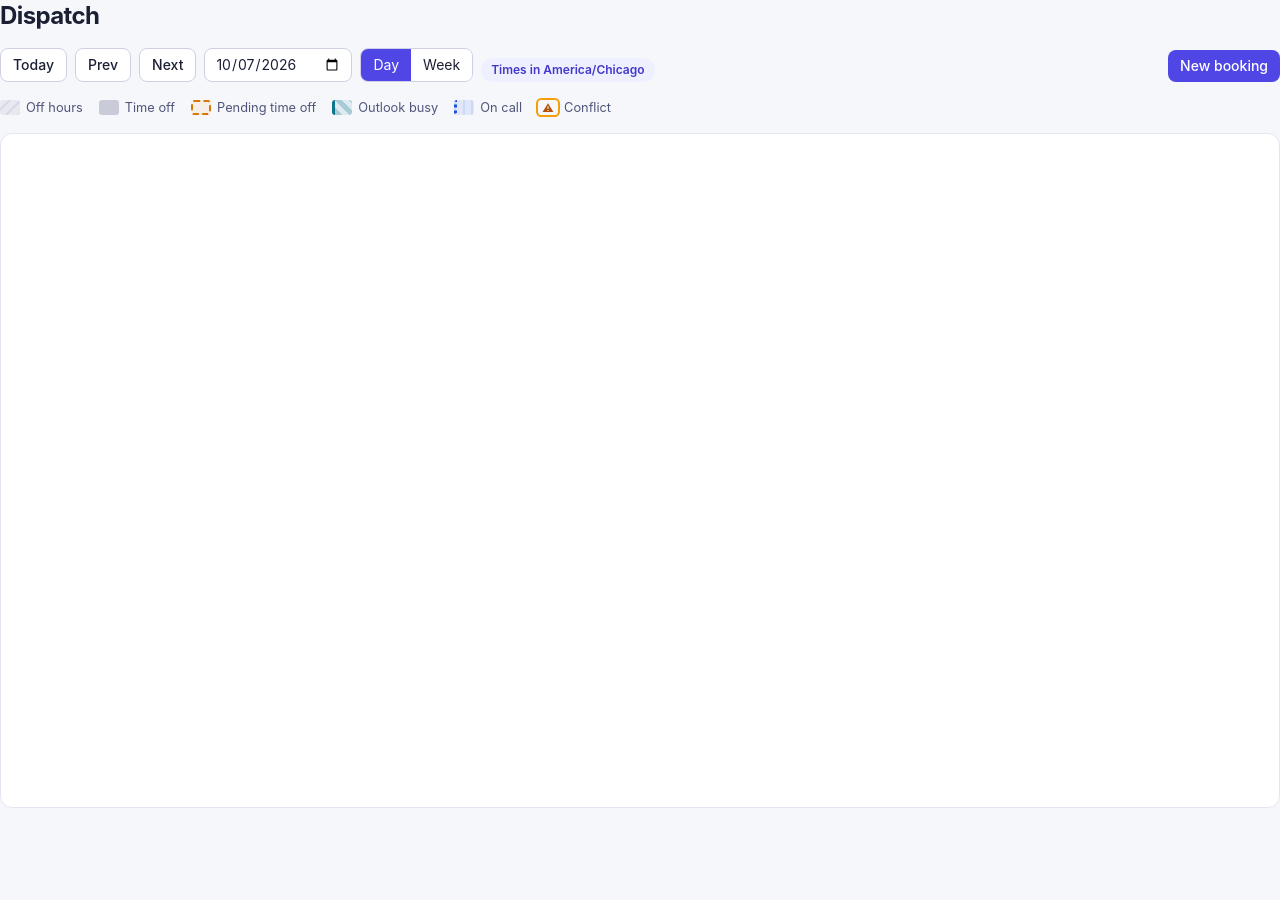
Test: dispatch board › books a ticket from the New booking dialog with UTC times
Click the button "New booking": [1224, 66] box [1168,50,1279,82]
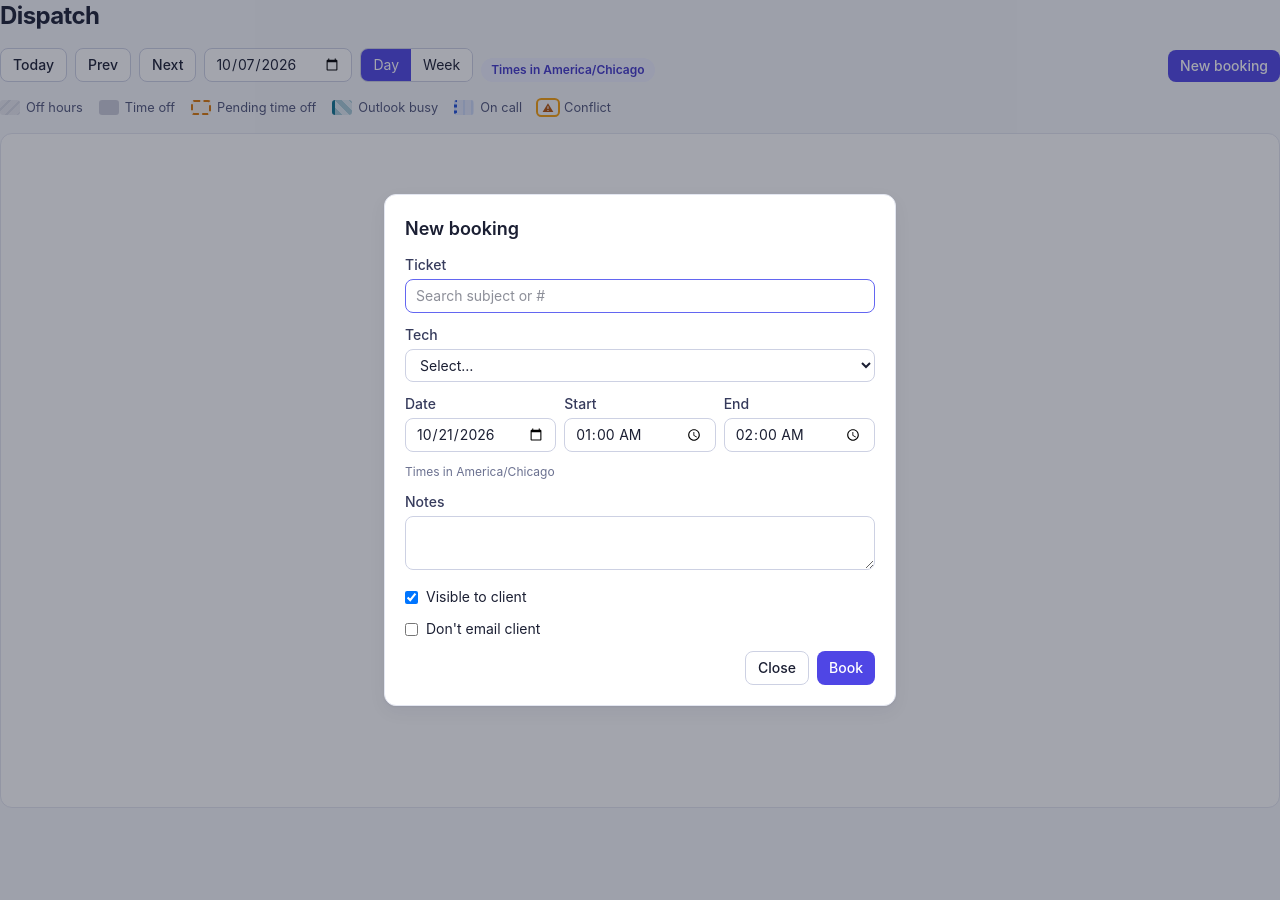
In the search field labelled "Ticket": [640, 296] box [405,279,875,313], type "print"
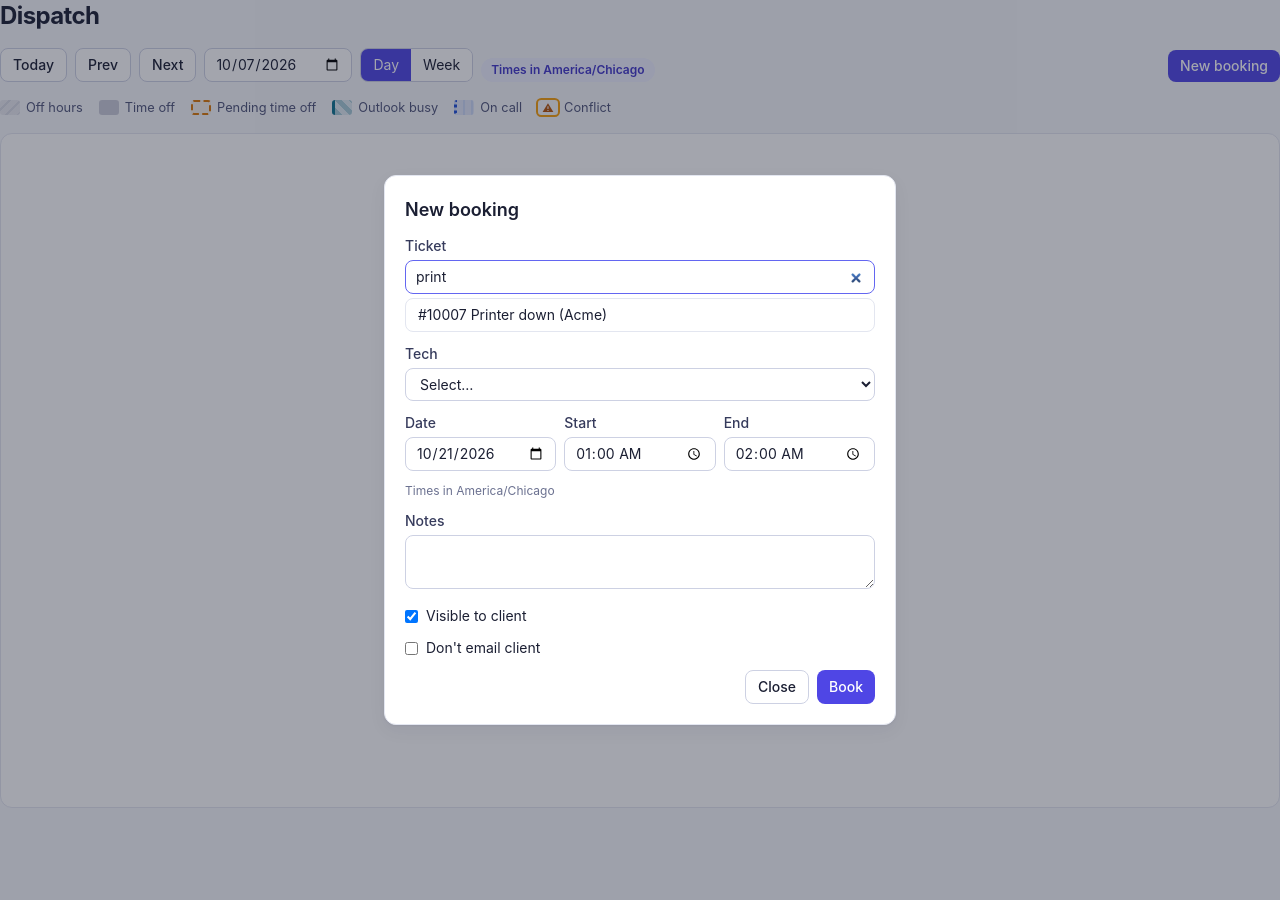
Click the button "#10007 Printer down (Acme)": [513, 314] box [406,299,874,331]
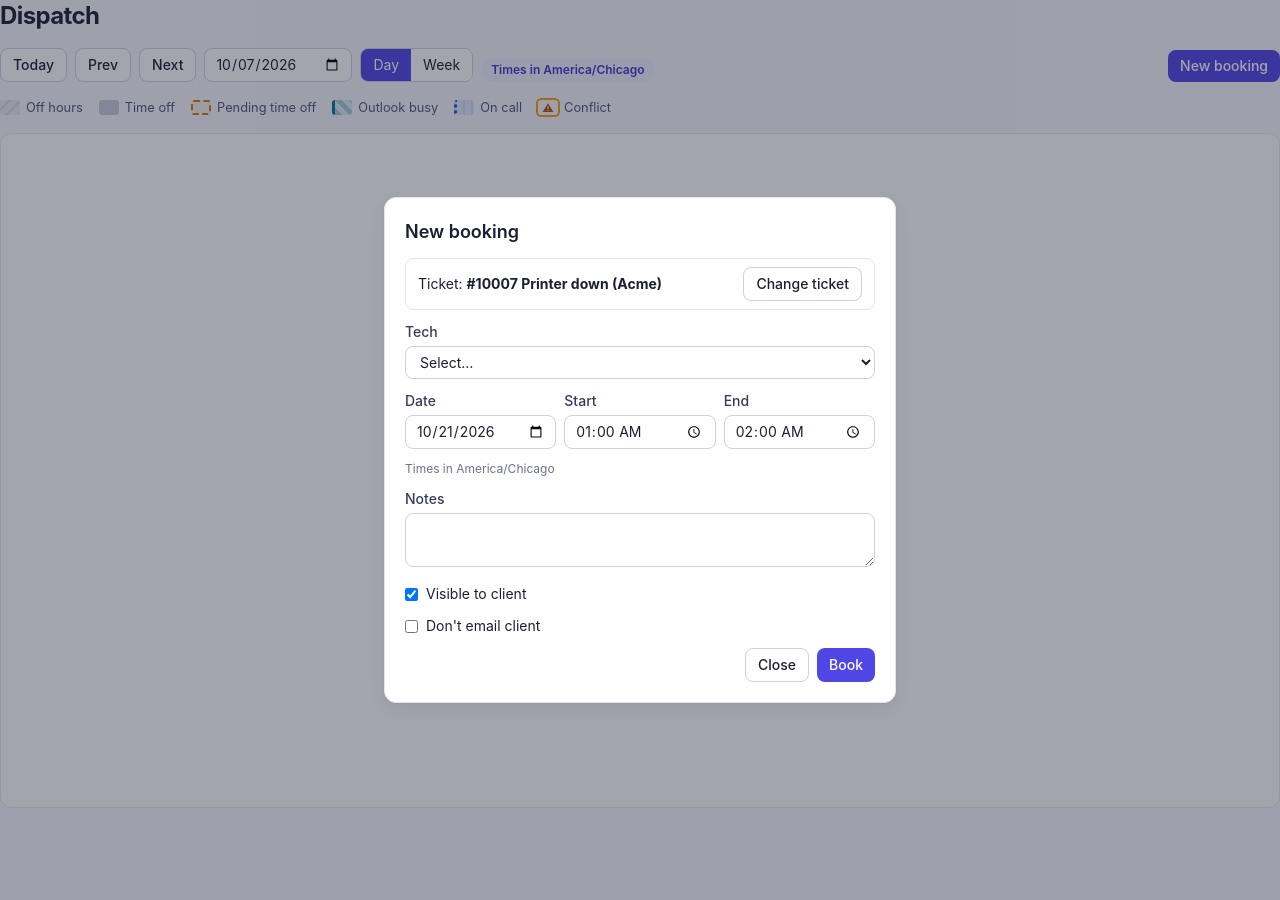
Select "Sam Tech" in the dropdown labelled "Tech": [640, 362] box [405,346,875,379]
In the date field labelled "Date": [481, 432] box [405,415,556,449], type "2026-10-08"
Replace the text in the time field labelled "Start" with "13:00": [640, 432] box [564,415,716,449]
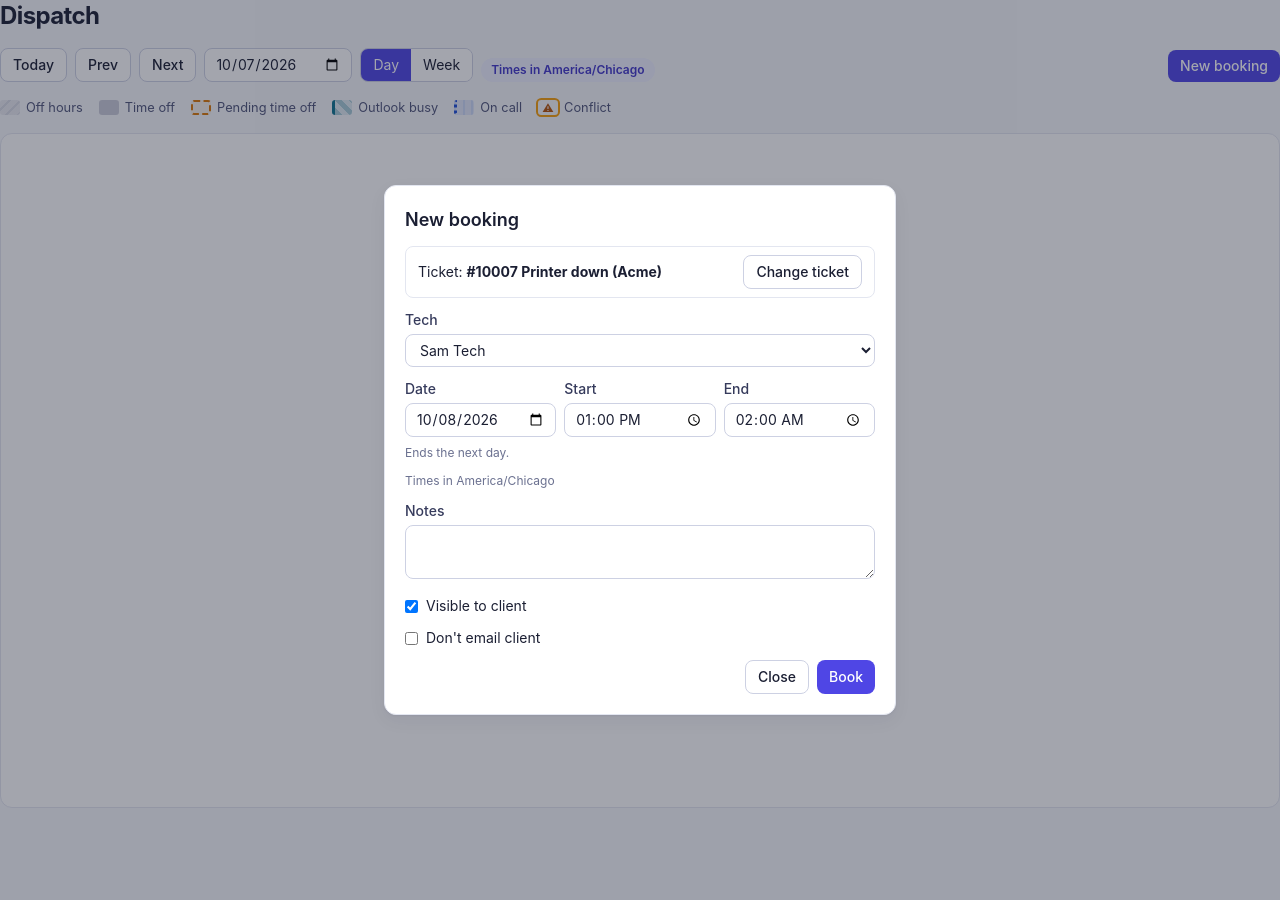
Replace the text in the time field labelled "End" with "14:30": [799, 420] box [724,403,875,437]
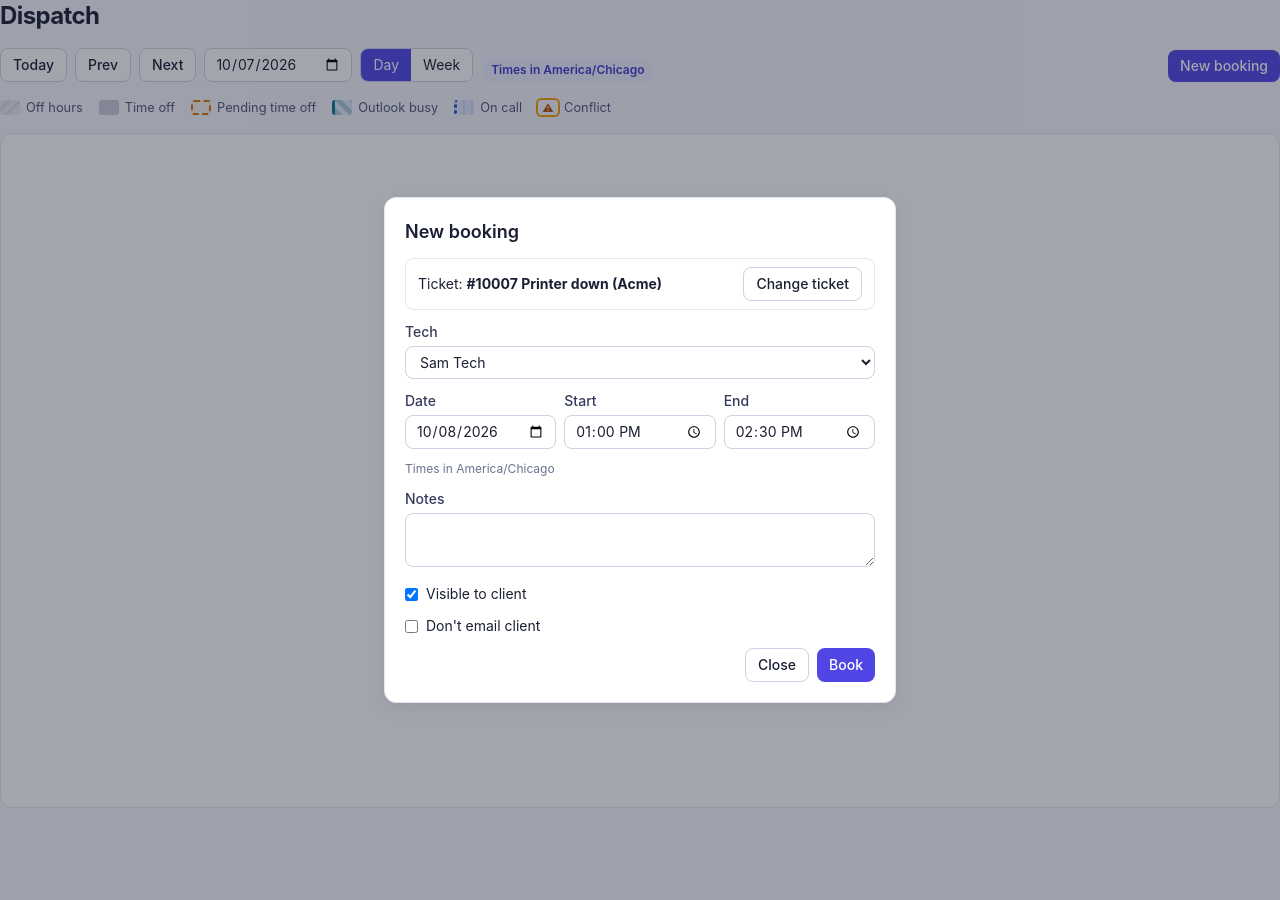
Click the button "Book": [846, 665] box [817,648,875,682]
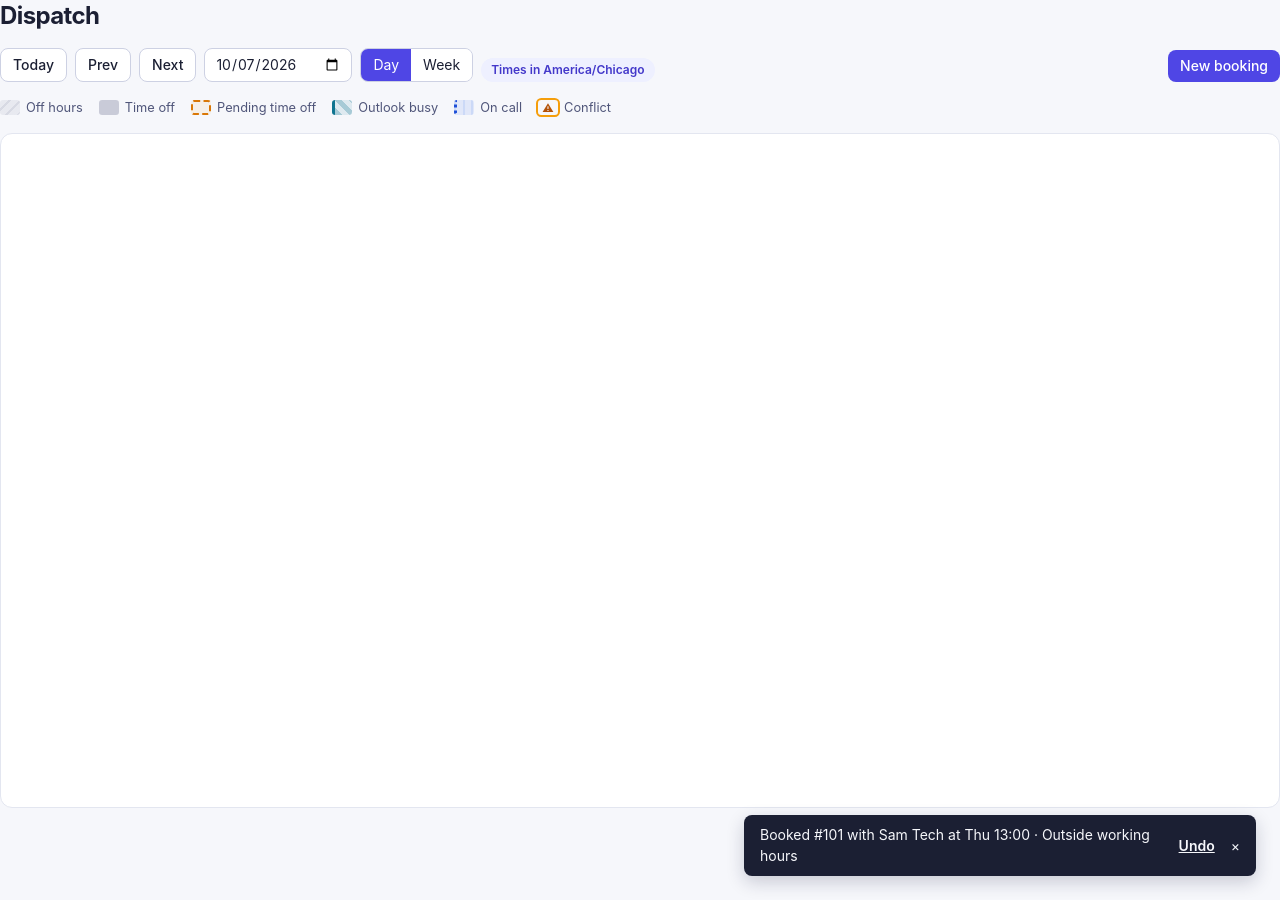
Now the dialog is gone
Now the message shows "Outside working hours", box [760,826,1150,864]
